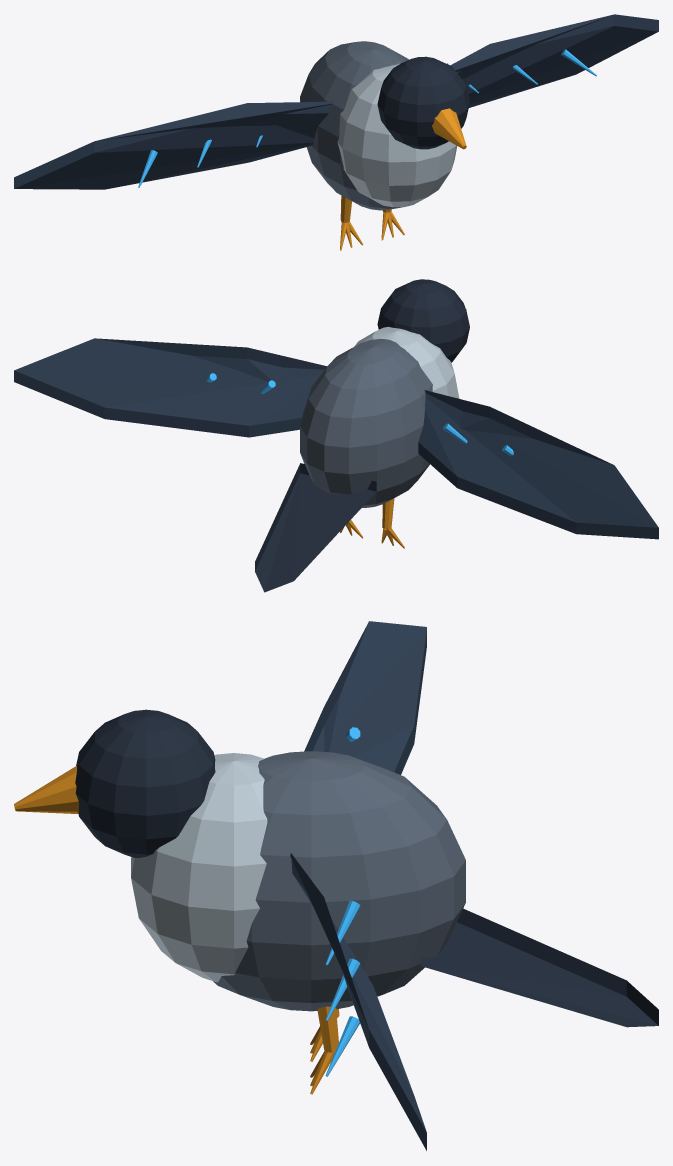
Rendered from MagicForestEagle.obj.
The picture shows the model from 3 angles, top to bottom: view 1: azimuth 30°, elevation 25°; view 2: azimuth 150°, elevation 25°; view 3: azimuth 270°, elevation 25°; orthographic projection. The views are drawn at different scales.
Parts seen in each view (by area): view 1: WingL, WingR, Chest, Body, Head, Beak; view 2: WingR, WingL, Body, Tail, Head, Chest; view 3: Body, Chest, Head, Tail, WingL, WingR, Beak.
Boxes of the visible parts, bbox=[...] form: WingL: bbox=[14, 101, 332, 189]; WingR: bbox=[450, 14, 658, 107]; Chest: bbox=[337, 63, 457, 207]; Body: bbox=[300, 41, 408, 210]; Head: bbox=[377, 56, 469, 149]; Beak: bbox=[432, 108, 466, 149]; WingR: bbox=[14, 338, 326, 437]; WingL: bbox=[418, 390, 658, 539]; Body: bbox=[300, 338, 432, 507]; Tail: bbox=[255, 463, 376, 592]; Head: bbox=[377, 279, 469, 362]; Chest: bbox=[354, 326, 459, 398]; Body: bbox=[213, 751, 465, 1011]; Chest: bbox=[131, 753, 267, 982]; Head: bbox=[75, 709, 215, 857]; Tail: bbox=[420, 908, 658, 1027]; WingL: bbox=[304, 621, 426, 774]; WingR: bbox=[290, 853, 426, 1150]; Beak: bbox=[14, 766, 78, 813].
Size of the model in its own units: 9.3 by 3.03 by 5.01.
